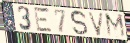3: (17, 6, 34, 33)
7: (53, 9, 67, 34)
E: (33, 6, 54, 35)
M: (104, 12, 128, 40)
S: (70, 9, 89, 37)
V: (86, 11, 105, 38)
